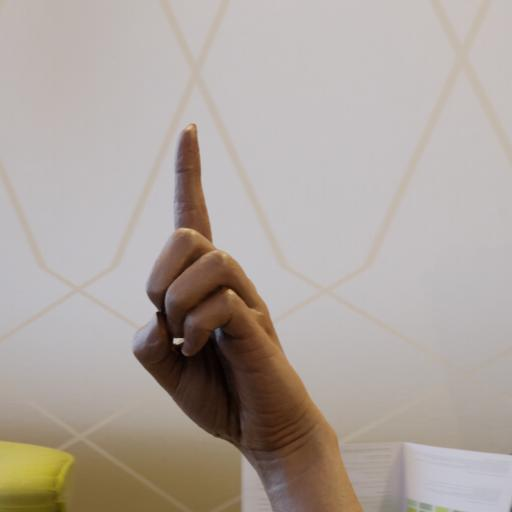D: (126, 118, 330, 467)
